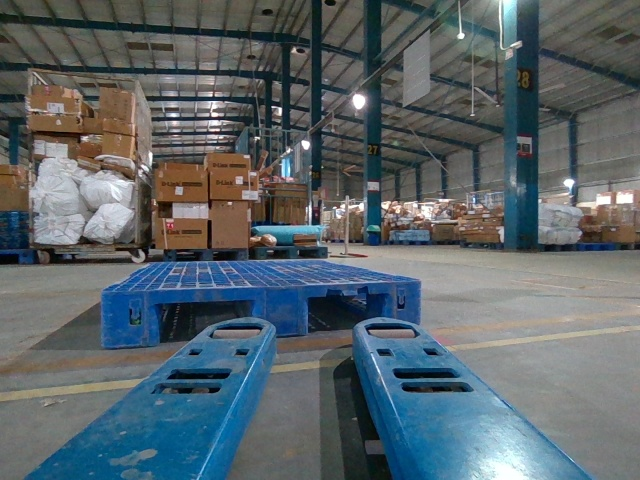block: (100, 290, 159, 348), (249, 286, 312, 336), (380, 281, 421, 326)
front: (99, 282, 421, 344)
hole pallet: (158, 302, 252, 348), (307, 295, 383, 336)
